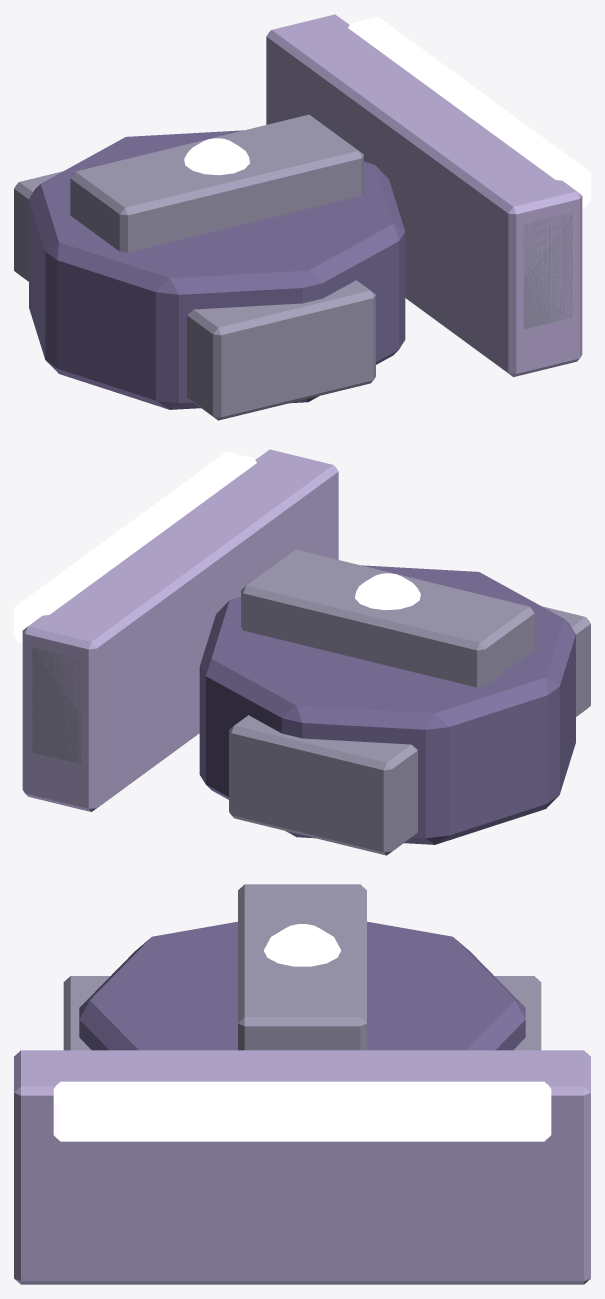
The model's file is enemy_warden.glb.
3 renders of one model, top to bottom at view 1: azimuth 30°, elevation 25°; view 2: azimuth 150°, elevation 25°; view 3: azimuth 270°, elevation 25°, orthographic. The views are drawn at different scales.
Parts seen in each view (by area): view 1: Cube.003, Cylinder, Cube, Cube.001, Cube.004, Cube.005, Sphere, Cube.002; view 2: Cube.003, Cylinder, Cube, Cube.002, Cube.004, Cube.006, Sphere, Cube.001; view 3: Cube.003, Cylinder, Cube.004, Cube, Sphere, Cube.001, Cube.002.
Part boxes in pixels (left/top/right/bottom): Cube.003: left=266, top=14, right=582, bottom=376; Cylinder: left=29, top=130, right=405, bottom=409; Cube: left=70, top=114, right=363, bottom=252; Cube.001: left=187, top=280, right=375, bottom=420; Cube.004: left=348, top=17, right=590, bottom=207; Cube.005: left=523, top=213, right=572, bottom=329; Sphere: left=184, top=138, right=249, bottom=175; Cube.002: left=14, top=171, right=62, bottom=281; Cube.003: left=22, top=449, right=338, bottom=811; Cylinder: left=199, top=565, right=575, bottom=844; Cube: left=241, top=549, right=534, bottom=687; Cube.002: left=229, top=715, right=417, bottom=855; Cube.004: left=14, top=452, right=256, bottom=642; Cube.006: left=32, top=647, right=81, bottom=764; Sphere: left=355, top=573, right=420, bottom=610; Cube.001: left=542, top=606, right=590, bottom=716; Cube.003: left=14, top=1050, right=590, bottom=1284; Cylinder: left=79, top=921, right=525, bottom=1050; Cube.004: left=53, top=1081, right=551, bottom=1141; Cube: left=238, top=884, right=366, bottom=1050; Sphere: left=263, top=924, right=341, bottom=966; Cube.001: left=63, top=976, right=110, bottom=1050; Cube.002: left=494, top=976, right=541, bottom=1050.
Bounding box in the file's own units: 1.18 × 0.5 × 1.16.
